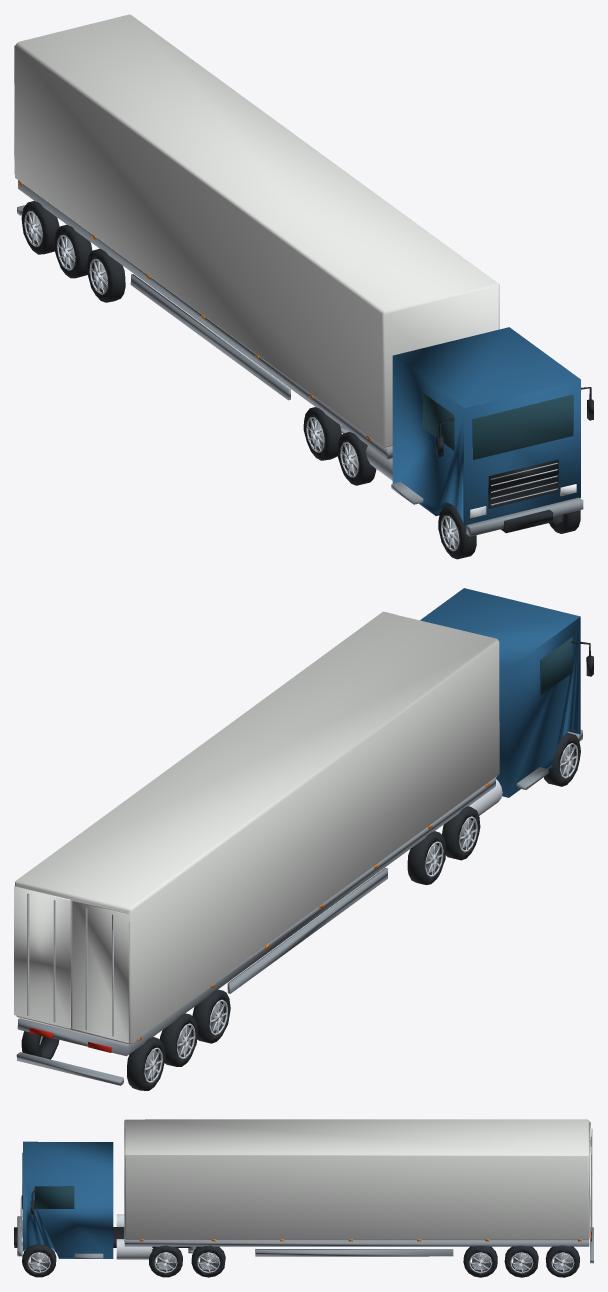
File: truck-lod1.glb
The picture shows the model from 3 angles, top to bottom: view 1: azimuth 30°, elevation 25°; view 2: azimuth 150°, elevation 25°; view 3: azimuth 270°, elevation 25°; orthographic projection. The views are drawn at different scales.
Parts seen in each view (by area): view 1: body_white, body_blue, body_steel, wheelpart_rubber (×6), body_glass, body_black, body_chrome; view 2: body_white, body_blue, body_steel, wheelpart_rubber (×7), body_chrome, body_glass; view 3: body_white, body_blue, body_steel, wheelpart_rubber (×6), wheelpart_chrome (×6), body_glass, body_chrome, body_black.
Part boxes in pixels (x1,y1,x2,y2): body_white: (14,14,499,448); body_blue: (392,327,580,525); body_steel: (17,180,583,536); wheelpart_rubber (×6): (21,201,476,559); body_glass: (422,392,573,459); body_black: (436,387,593,533); body_chrome: (365,445,557,505); body_white: (14,611,499,1044); body_blue: (420,588,580,797); body_steel: (16,729,582,1085); wheelpart_rubber (×7): (21,732,580,1090); body_chrome: (27,779,502,1036); body_glass: (540,637,572,695); body_white: (124,1119,590,1240); body_blue: (23,1141,113,1258); body_steel: (17,1216,593,1263); wheelpart_rubber (×6): (22,1244,579,1277); wheelpart_chrome (×6): (27,1252,574,1273); body_glass: (22,1152,74,1208); body_chrome: (20,1128,592,1259); body_black: (14,1188,197,1247).
Size of the model in its own units: 3.31 by 4 by 16.98.
